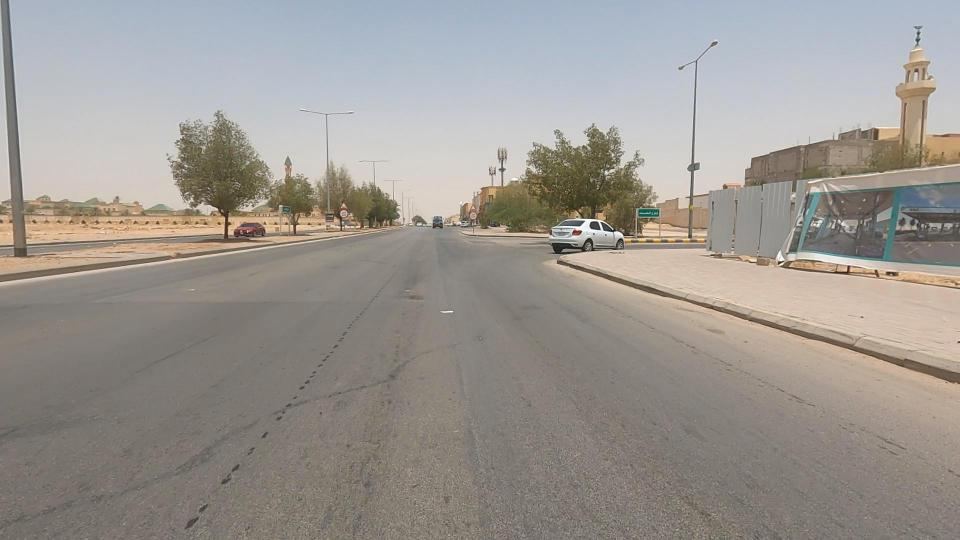GARBAGE: (410, 281, 483, 337)
